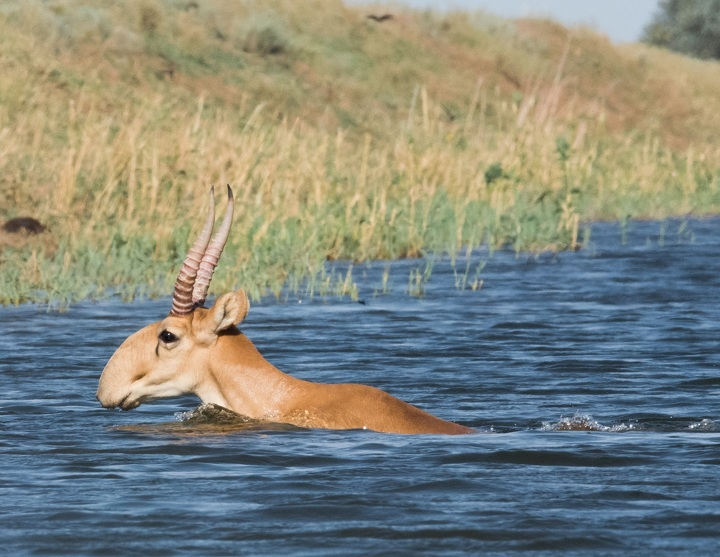saiga: (93, 182, 501, 442)
